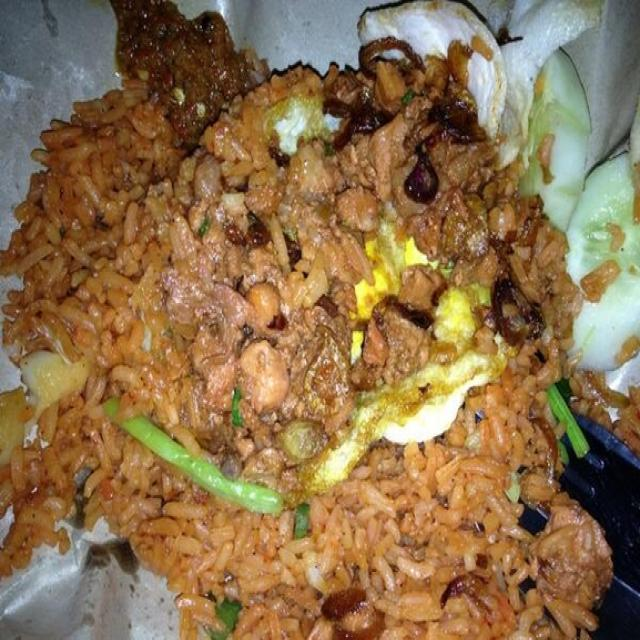米饭主食: (11, 17, 608, 624)
